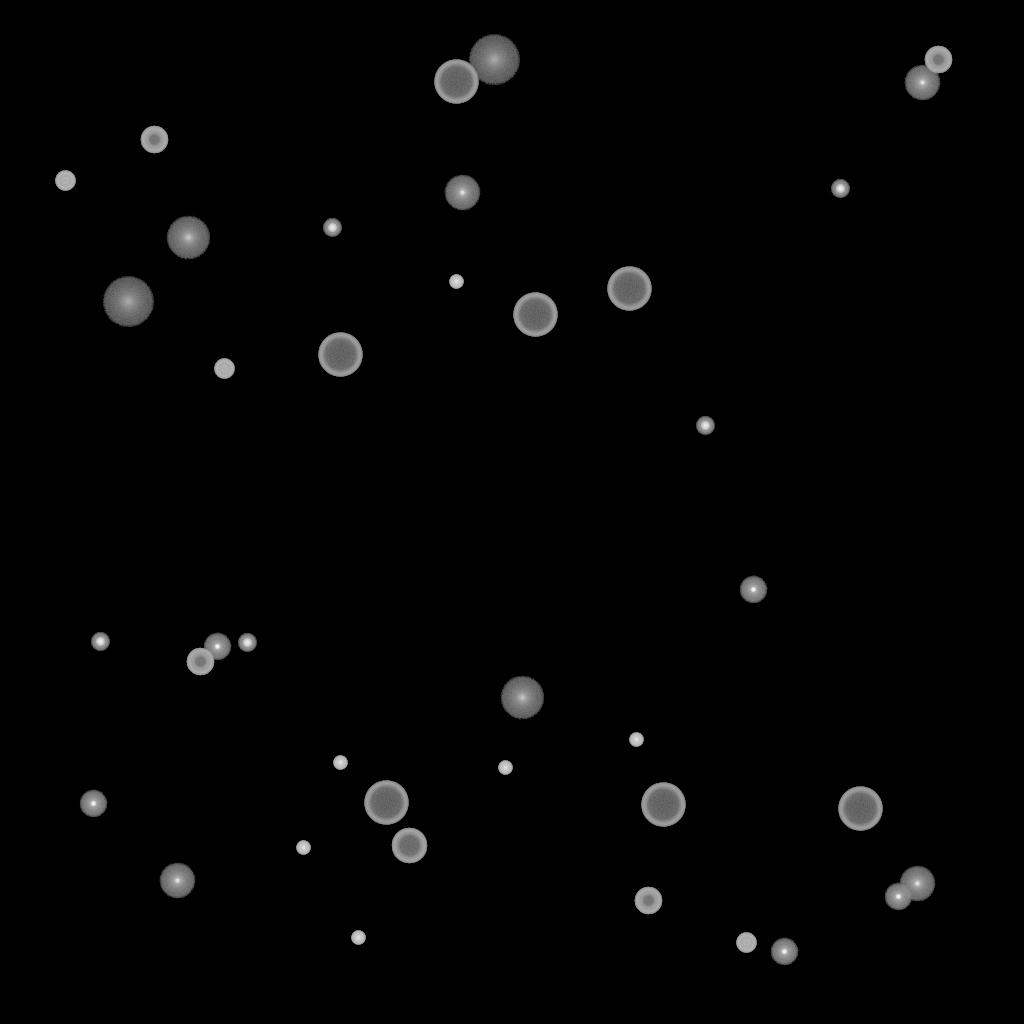depth:-10: (884, 883, 912, 911), (203, 633, 231, 661), (79, 790, 107, 818), (770, 938, 798, 966), (739, 576, 767, 604)
depth:-20: (238, 634, 256, 652), (323, 219, 341, 237), (696, 417, 714, 435), (91, 633, 109, 651), (831, 180, 849, 198)
depth:-30: (351, 931, 365, 945), (629, 733, 643, 747), (333, 756, 347, 770), (296, 841, 310, 855), (449, 275, 463, 289), (498, 761, 512, 775)
depth:-40: (55, 171, 75, 191), (736, 933, 756, 953), (214, 359, 234, 379)
depth:-50: (634, 887, 662, 915), (140, 126, 168, 154), (924, 46, 952, 74), (186, 648, 214, 676)
depth:-60: (391, 828, 427, 864)
depth:-70: (364, 781, 408, 825), (318, 333, 362, 377), (838, 787, 882, 831), (434, 60, 478, 104), (607, 267, 651, 311), (641, 783, 685, 827), (513, 293, 557, 337)
depth:0: (444, 175, 480, 211), (904, 65, 940, 101), (899, 866, 935, 902), (159, 863, 195, 899)
depth:10: (166, 216, 210, 260), (500, 676, 544, 720)
depth:20: (468, 35, 520, 85), (102, 277, 154, 327)
